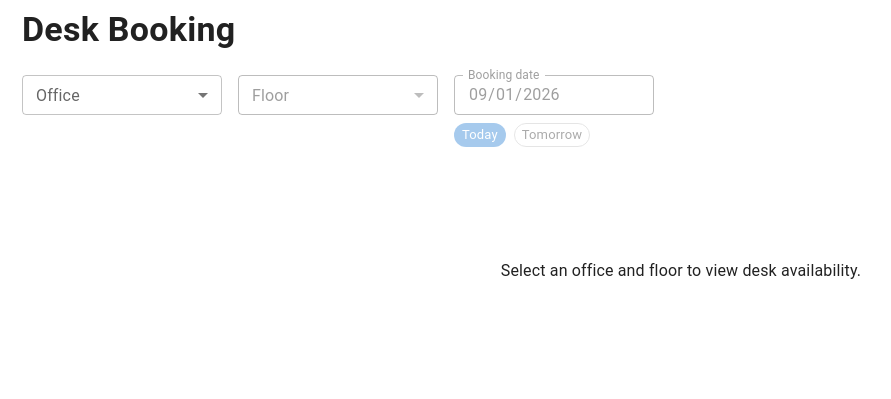
Test case: DeskBookingPage — floor selection (TD-033) › shows the role-aware no-desks empty state for a floor without desks
Click the 1st dropdown at (122, 95), box [22,75,222,115]
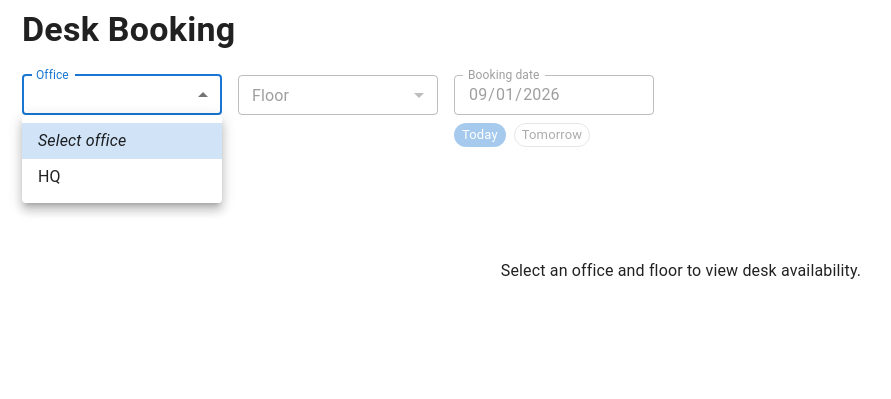
Click the option "HQ" at (49, 176), box [38,167,61,186]
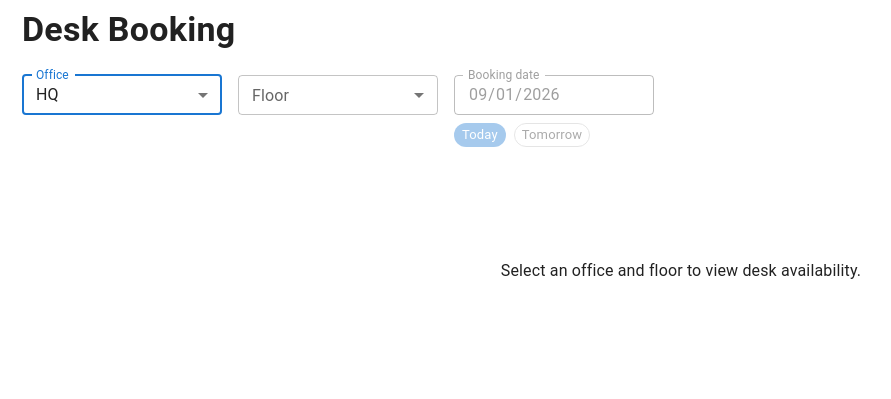
Click the 2nd dropdown at (338, 95), box [238,75,438,115]
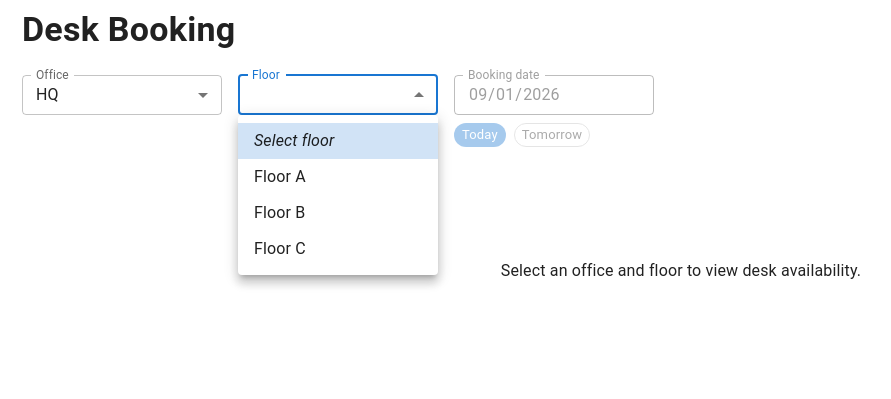
Click the option "Floor B" at (280, 212), box [254,203,305,222]
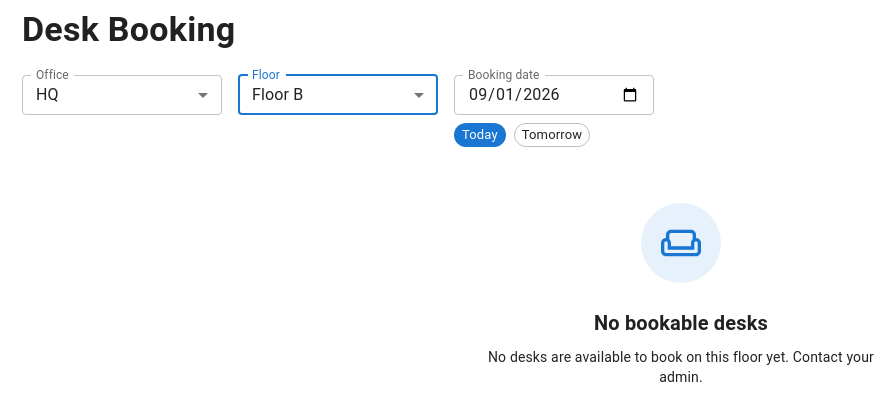
Result: the heading "No bookable desks" is shown at [594,311,768,335]
